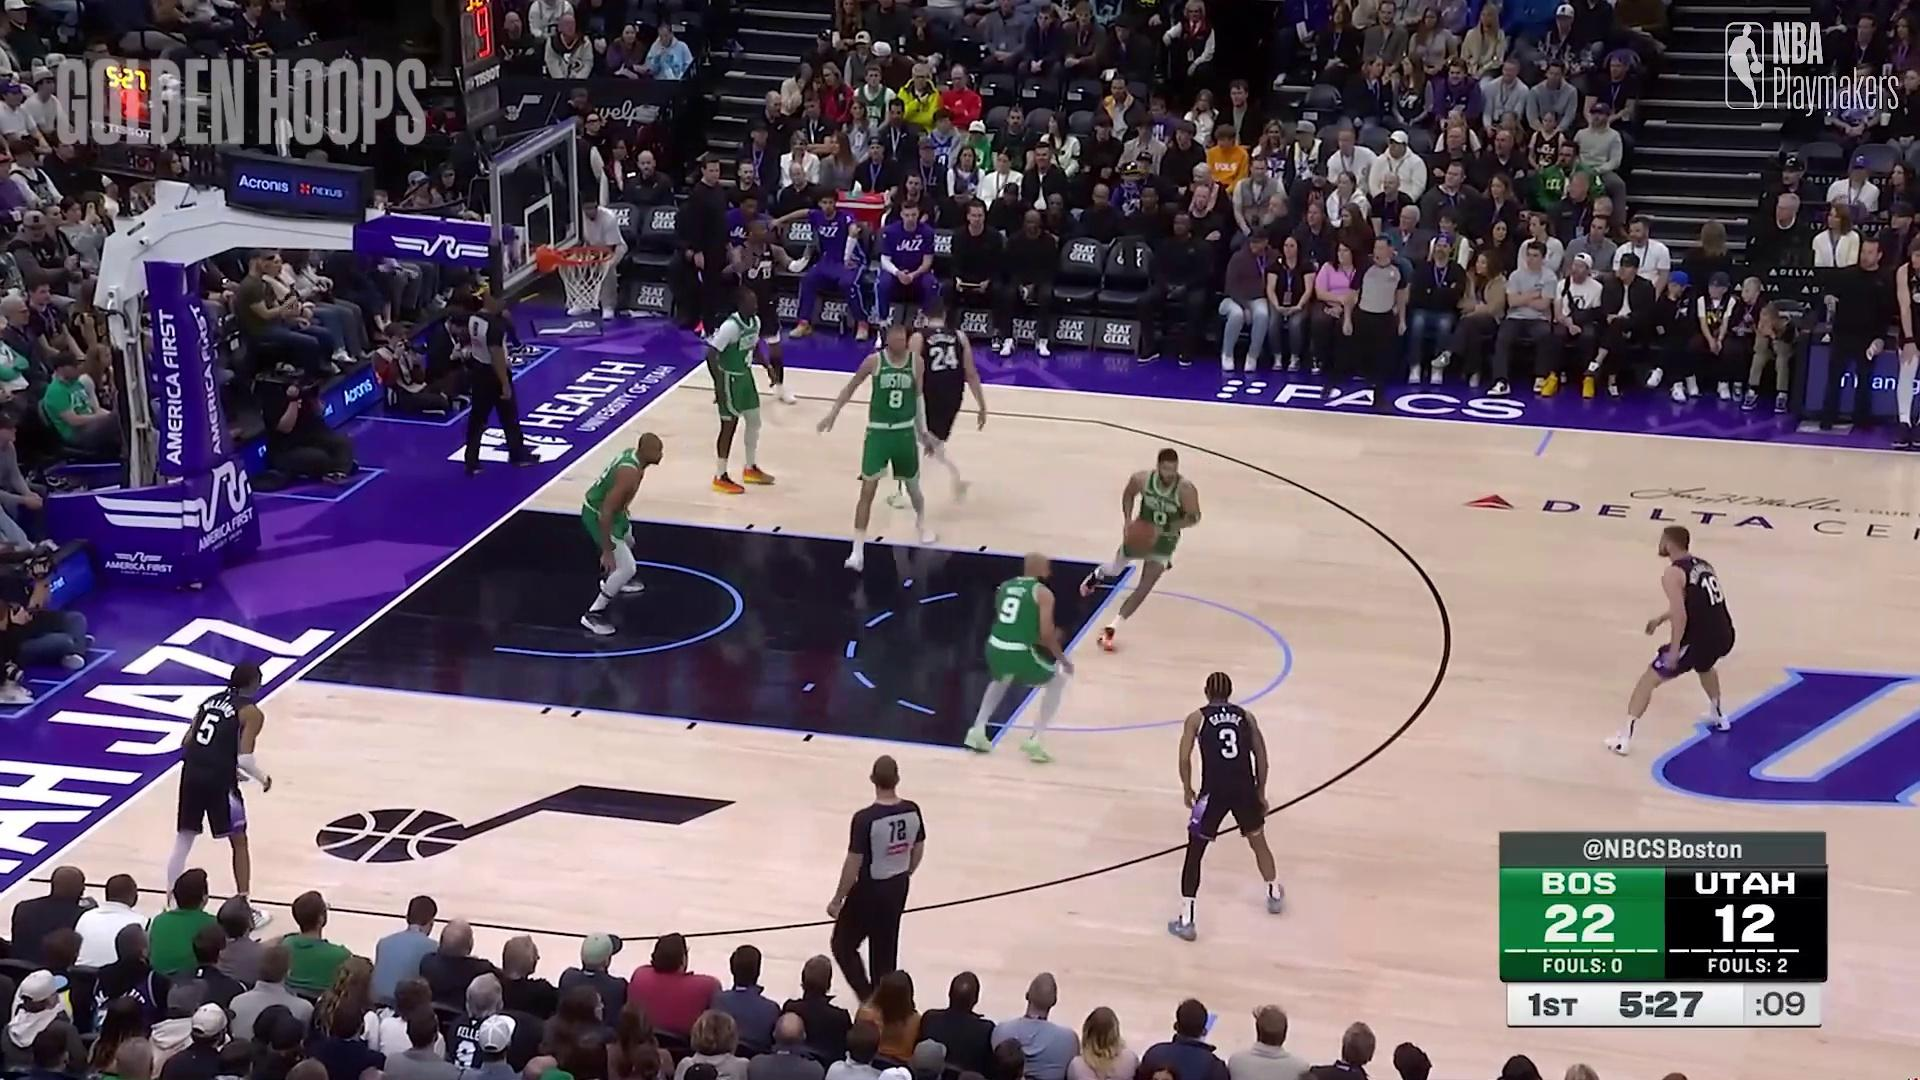ball: (1124, 518, 1158, 563)
hoop: (559, 225, 613, 316)
